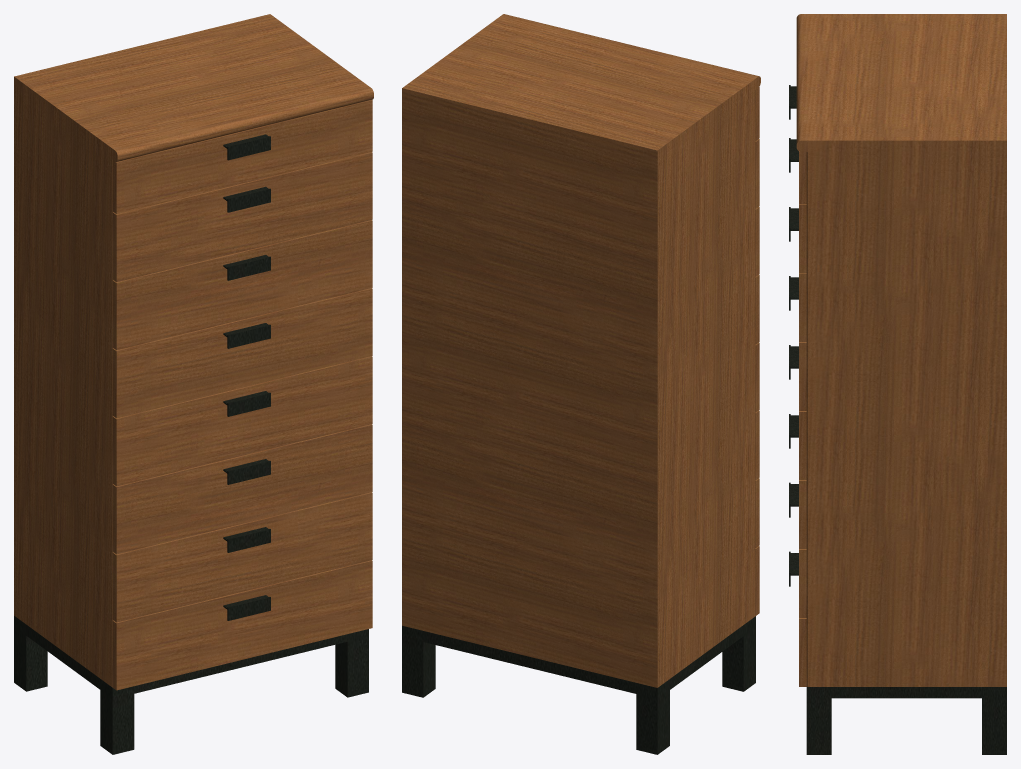
The model's file is OfficeDrawersTall.DAE.
3 renders of one model, left to right at view 1: azimuth 30°, elevation 25°; view 2: azimuth 150°, elevation 25°; view 3: azimuth 270°, elevation 25°, orthographic.
Visible parts, largest first — view 1: OfficeDrawersTall300; view 2: OfficeDrawersTall300; view 3: OfficeDrawersTall300.
Part boxes in pixels (x1,y1,x2,y2): OfficeDrawersTall300: (14,14,373,754); OfficeDrawersTall300: (402,14,760,754); OfficeDrawersTall300: (789,14,1006,754).
Size of what is drawn, in the model's own units: 835 by 607 by 1888.
